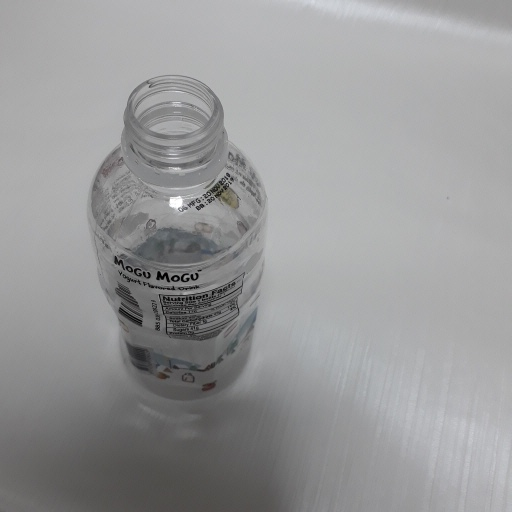Plastic_0: (87, 74, 269, 404)
